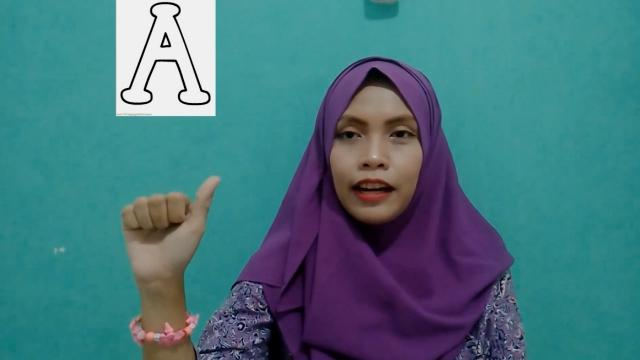A: (120, 175, 224, 290)
